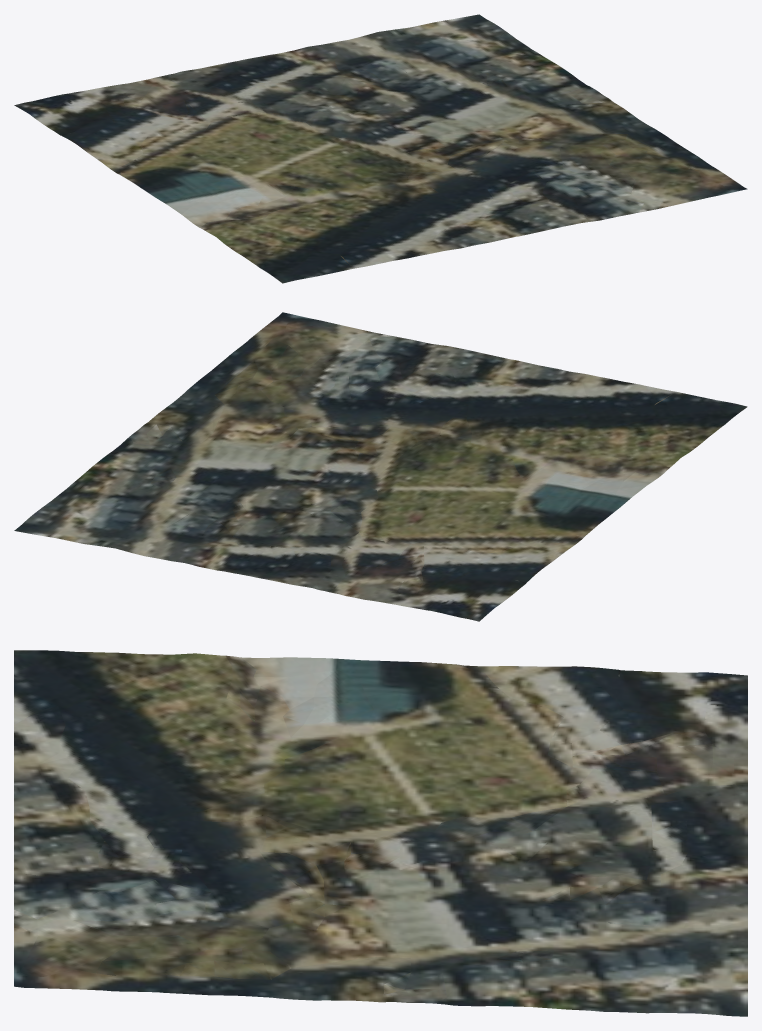
3 renders of one model, top to bottom at view 1: azimuth 30°, elevation 25°; view 2: azimuth 150°, elevation 25°; view 3: azimuth 270°, elevation 25°, orthographic. The views are drawn at different scales.
Bounding box in the file's own units: 104 × 8.83 × 104.
Materials: 2 (2 with a texture image).
